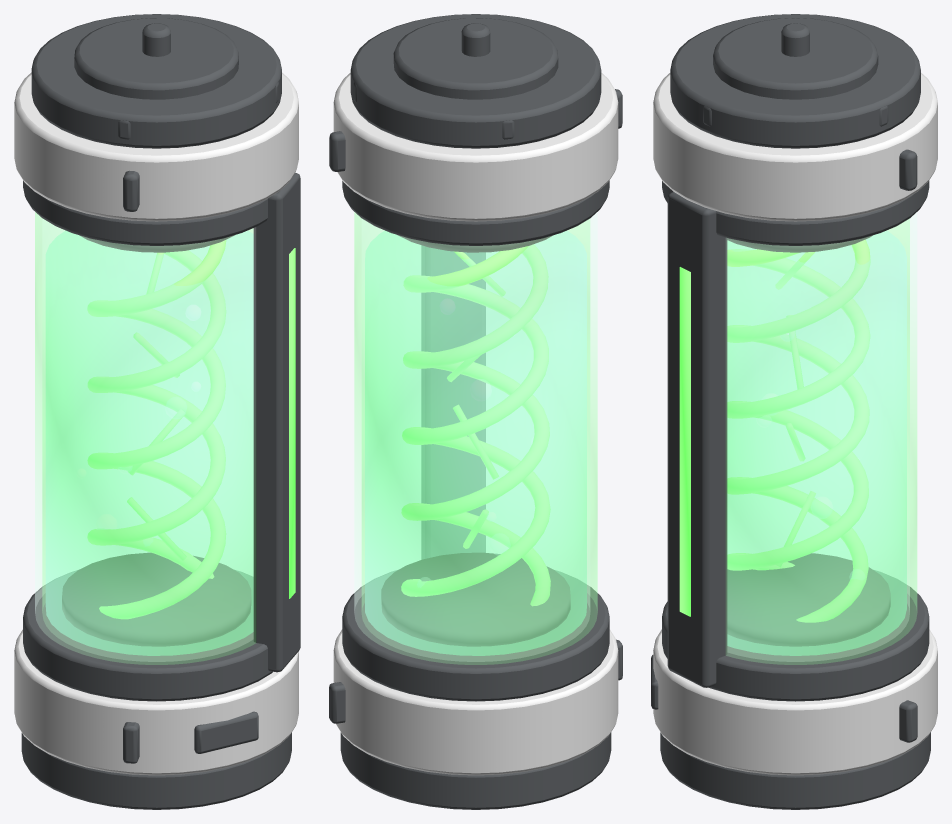
Rendered from SM_FuseCell.glb.
The picture shows the model from 3 angles, left to right: view 1: azimuth 30°, elevation 25°; view 2: azimuth 150°, elevation 25°; view 3: azimuth 270°, elevation 25°; orthographic projection.
Visible parts, largest first — view 1: SM_FuseCell_GlassCore, SM_FuseCell_LiquidVolume, SM_FuseCell_TopCap, SM_FuseCell_BottomCap, SM_FuseCell_EnergyHelix, SM_FuseCell_Spine, SM_FuseCell_Indicator; view 2: SM_FuseCell_GlassCore, SM_FuseCell_LiquidVolume, SM_FuseCell_TopCap, SM_FuseCell_BottomCap, SM_FuseCell_EnergyHelix, SM_FuseCell_Spine; view 3: SM_FuseCell_GlassCore, SM_FuseCell_LiquidVolume, SM_FuseCell_TopCap, SM_FuseCell_BottomCap, SM_FuseCell_EnergyHelix, SM_FuseCell_Spine, SM_FuseCell_Indicator.
Boxes of the visible parts, x1,y1,x2,y2 form: SM_FuseCell_GlassCore: (35, 212, 255, 664); SM_FuseCell_LiquidVolume: (46, 231, 253, 655); SM_FuseCell_TopCap: (14, 14, 298, 245); SM_FuseCell_BottomCap: (14, 570, 298, 809); SM_FuseCell_EnergyHelix: (62, 235, 250, 646); SM_FuseCell_Spine: (253, 173, 300, 672); SM_FuseCell_Indicator: (289, 248, 295, 598); SM_FuseCell_GlassCore: (354, 212, 597, 664); SM_FuseCell_LiquidVolume: (365, 231, 586, 655); SM_FuseCell_TopCap: (329, 14, 622, 245); SM_FuseCell_BottomCap: (329, 570, 622, 809); SM_FuseCell_EnergyHelix: (381, 235, 570, 646); SM_FuseCell_Spine: (421, 246, 485, 558); SM_FuseCell_GlassCore: (726, 212, 916, 664); SM_FuseCell_LiquidVolume: (727, 231, 906, 655); SM_FuseCell_TopCap: (653, 14, 937, 245); SM_FuseCell_BottomCap: (651, 570, 937, 809); SM_FuseCell_EnergyHelix: (727, 235, 890, 646); SM_FuseCell_Spine: (667, 192, 727, 687); SM_FuseCell_Indicator: (679, 267, 690, 616).
Size of the model in its own units: 0.055 by 0.155 by 0.0554.
